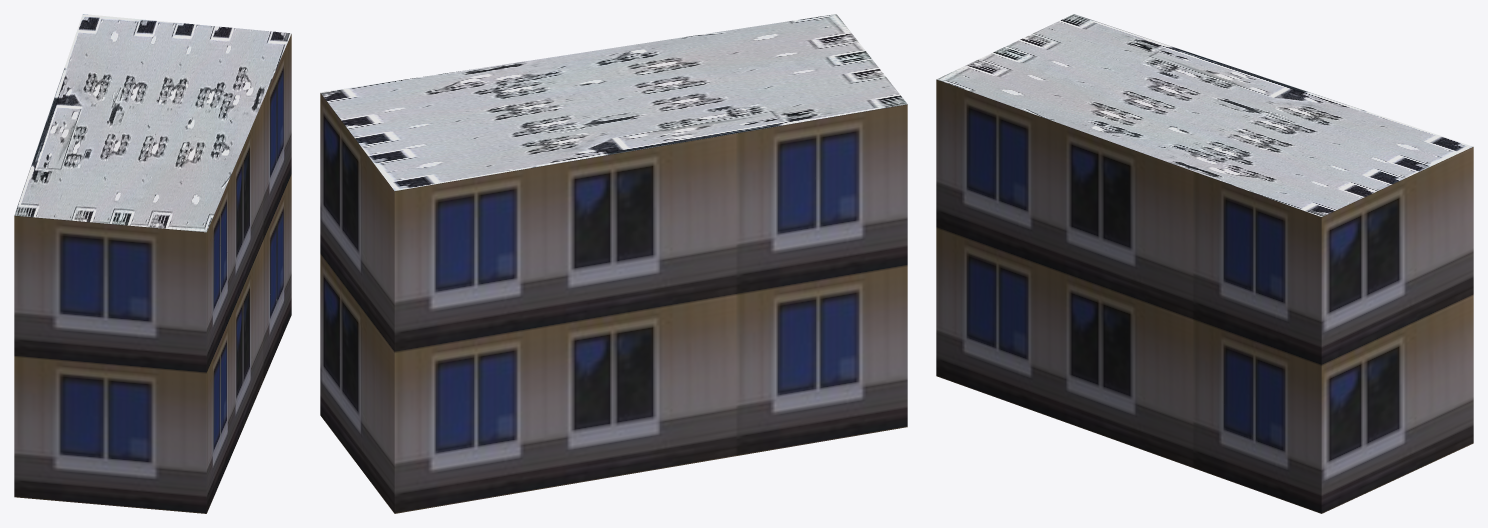
File: ResTex__3144.fbx
3 views of the same model, side by side, from view 1: azimuth 30°, elevation 25°; view 2: azimuth 150°, elevation 25°; view 3: azimuth 270°, elevation 25° (orthographic). The views are drawn at different scales.
Parts seen in each view (by area): view 1: CityEngineMaterial_5_m, CityEngineMaterial_8_m; view 2: CityEngineMaterial_5_m, CityEngineMaterial_8_m; view 3: CityEngineMaterial_5_m, CityEngineMaterial_8_m.
Boxes of the visible parts, x1,y1,x2,y2 form: CityEngineMaterial_5_m: (14,34,291,513); CityEngineMaterial_8_m: (14,14,291,232); CityEngineMaterial_5_m: (320,93,907,513); CityEngineMaterial_8_m: (320,14,907,190); CityEngineMaterial_5_m: (936,79,1473,513); CityEngineMaterial_8_m: (937,14,1472,216).
Bounding box in the file's own units: 8.81 × 6 × 9.84.
Materials: 2 (2 with a texture image).
